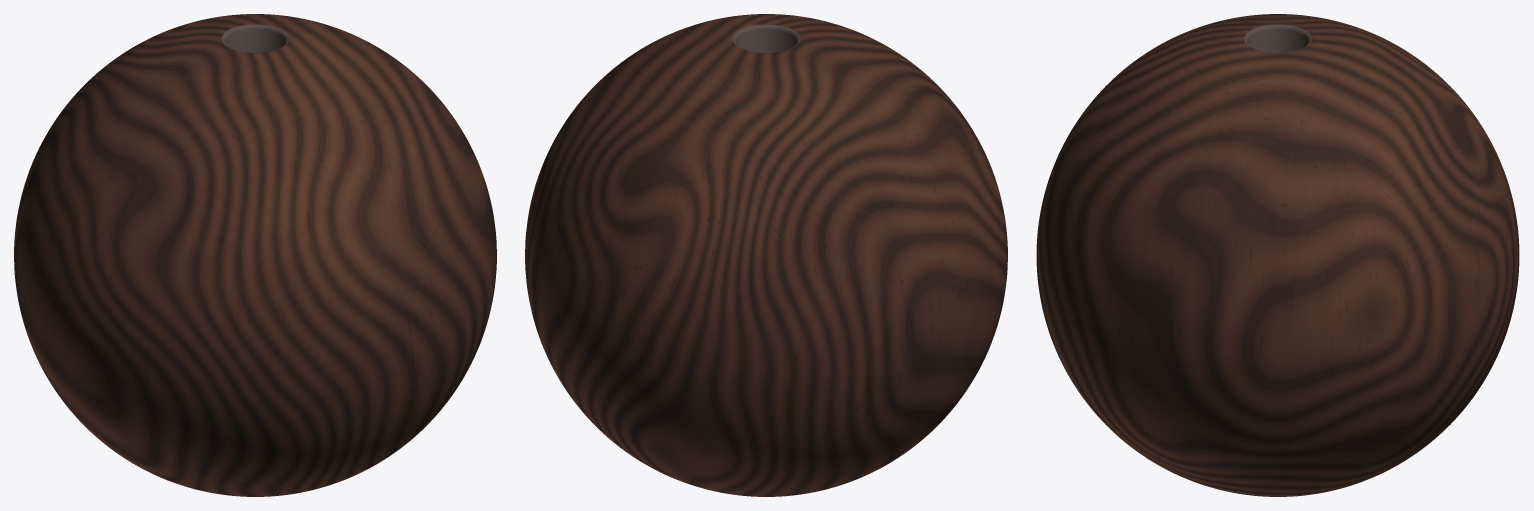
Rendered from tengxiang-reference-8mm.glb.
The picture shows the model from 3 angles, left to right: view 1: azimuth 30°, elevation 25°; view 2: azimuth 150°, elevation 25°; view 3: azimuth 270°, elevation 25°; orthographic projection.
Visible parts, largest first — view 1: tengxiang-reference; view 2: tengxiang-reference; view 3: tengxiang-reference.
Boxes of the visible parts, left/top/right/bottom form: tengxiang-reference: left=14, top=14, right=496, bottom=496; tengxiang-reference: left=525, top=14, right=1007, bottom=496; tengxiang-reference: left=1036, top=14, right=1519, bottom=496.
Bounding box in the file's own units: 0.008 × 0.00792 × 0.008.
Materials: 2 (1 with a texture image).
